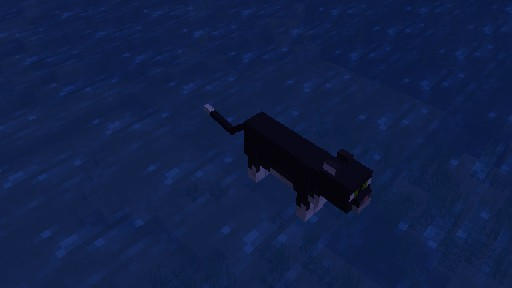cat: (203, 102, 373, 221)
